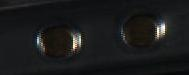joints: (116, 8, 167, 54), (33, 18, 84, 62)
